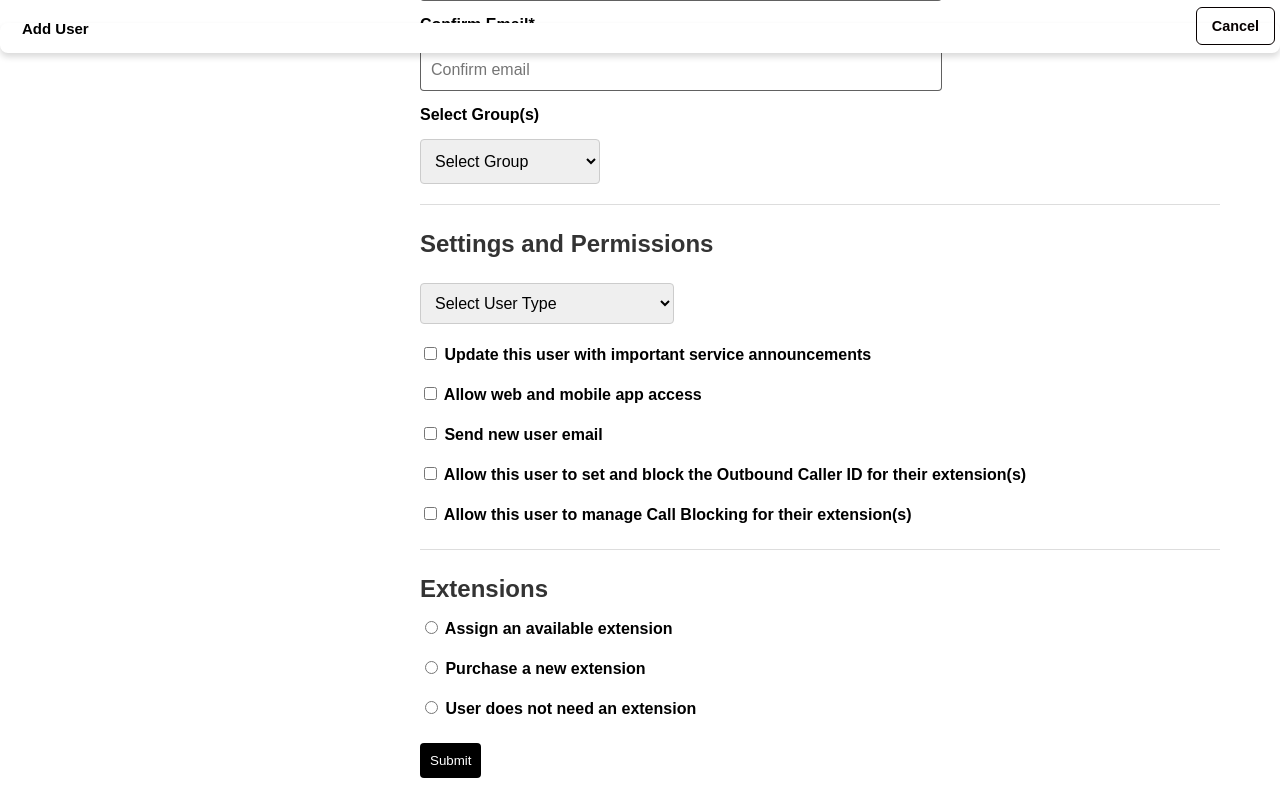
Scenario: UserForm.vue › shows purchase notice when extension option is purchase
(page scrolled)
Click the radio button labelled "Purchase a new extension".
click(432, 668)  # box [425,661,438,674]
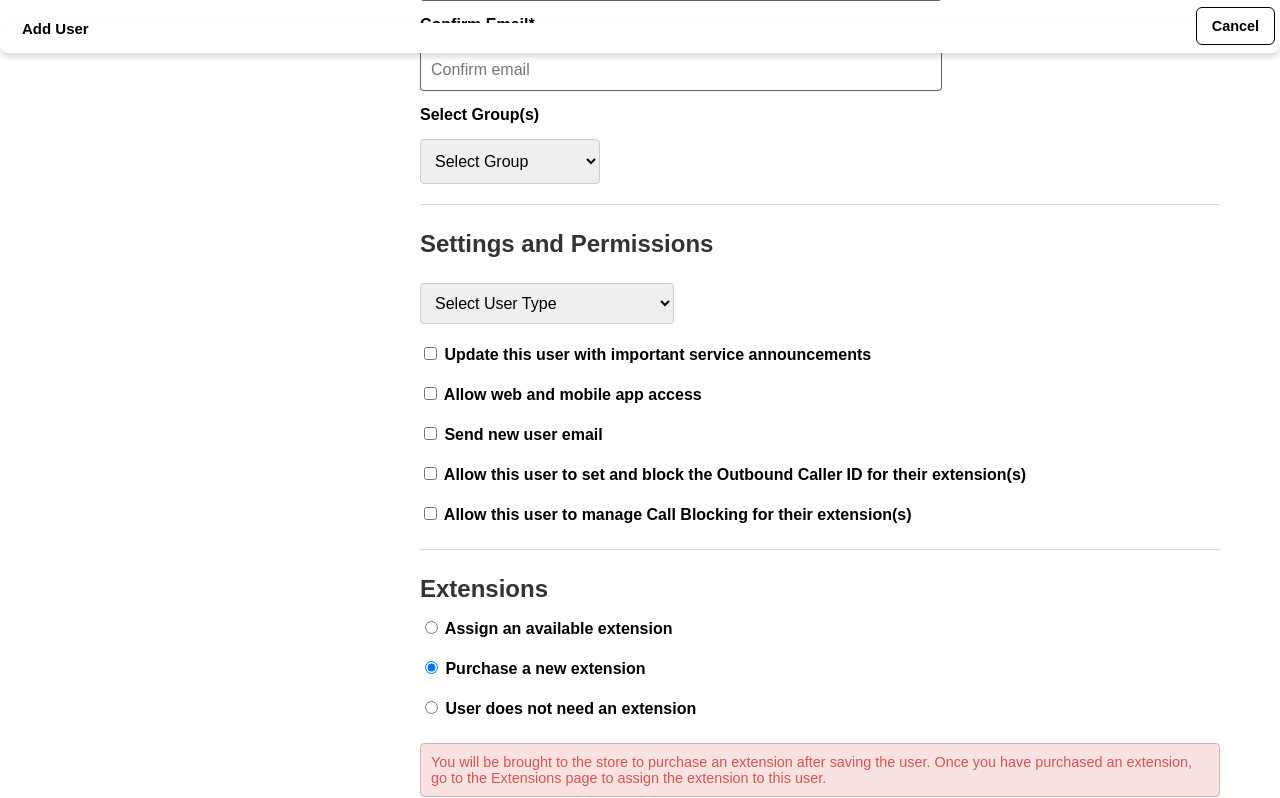
Now the text "You will be brought to the store to purchase an extension after saving the user. Once you have purchased an extension, go to the Extensions page to assign the e" is shown, box [431,754,1192,786]
